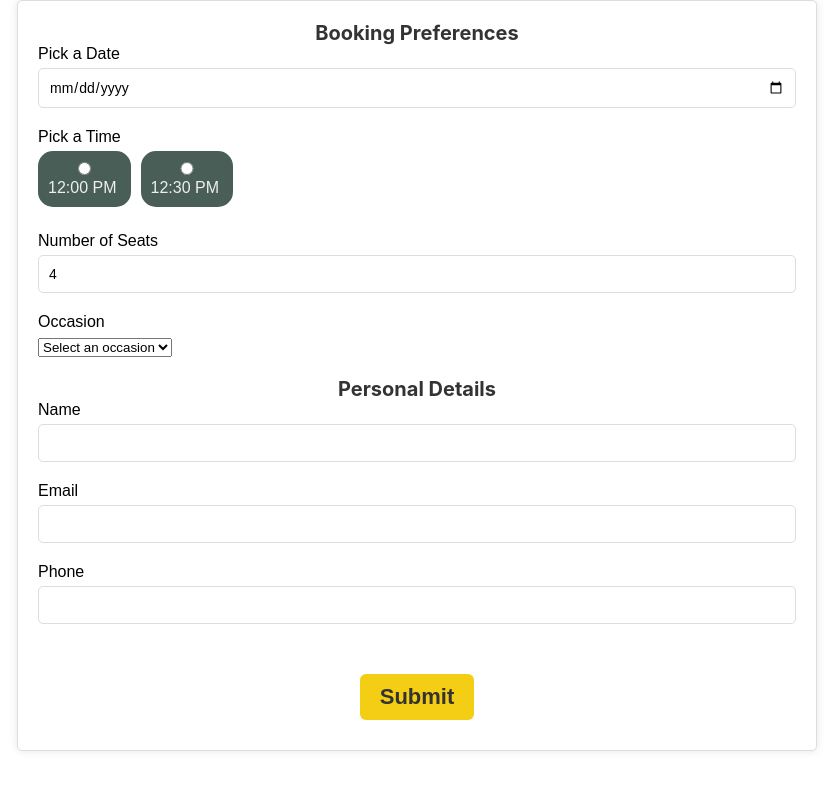
Scenario: BookingForm component › validates form field errors on submit
Click the button "Submit" at (417, 697), box [360,674,474,720]
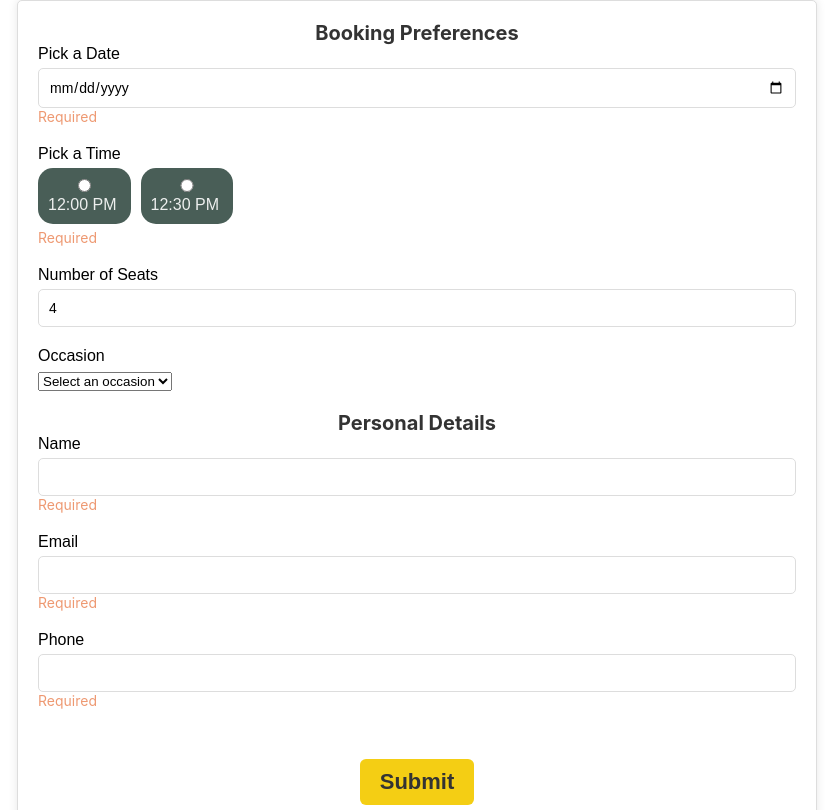
Expected: the text "Required" is shown 5 times, [38,108,97,125]; [38,229,97,246]; [38,496,97,513]; [38,594,97,611]; [38,692,97,709]
